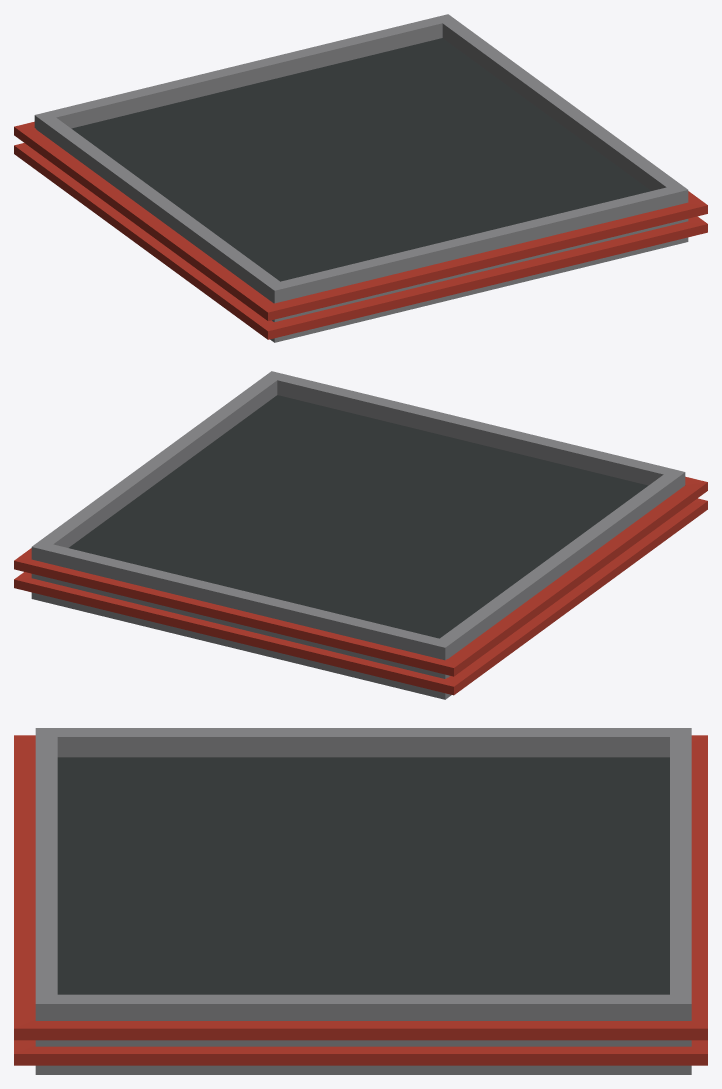
Rendered from roofbruh.fbx.
The picture shows the model from 3 angles, top to bottom: view 1: azimuth 30°, elevation 25°; view 2: azimuth 150°, elevation 25°; view 3: azimuth 270°, elevation 25°; orthographic projection. The views are drawn at different scales.
Parts seen in each view (by area): view 1: Gas station.001; view 2: Gas station.001; view 3: Gas station.001.
Boxes of the visible parts, x1=… form: Gas station.001: x1=14, y1=14, x2=707, y2=342; Gas station.001: x1=14, y1=371, x2=707, y2=699; Gas station.001: x1=14, y1=728, x2=707, y2=1074.
Bounding box in the file's own units: 3529 × 399 × 3529.
